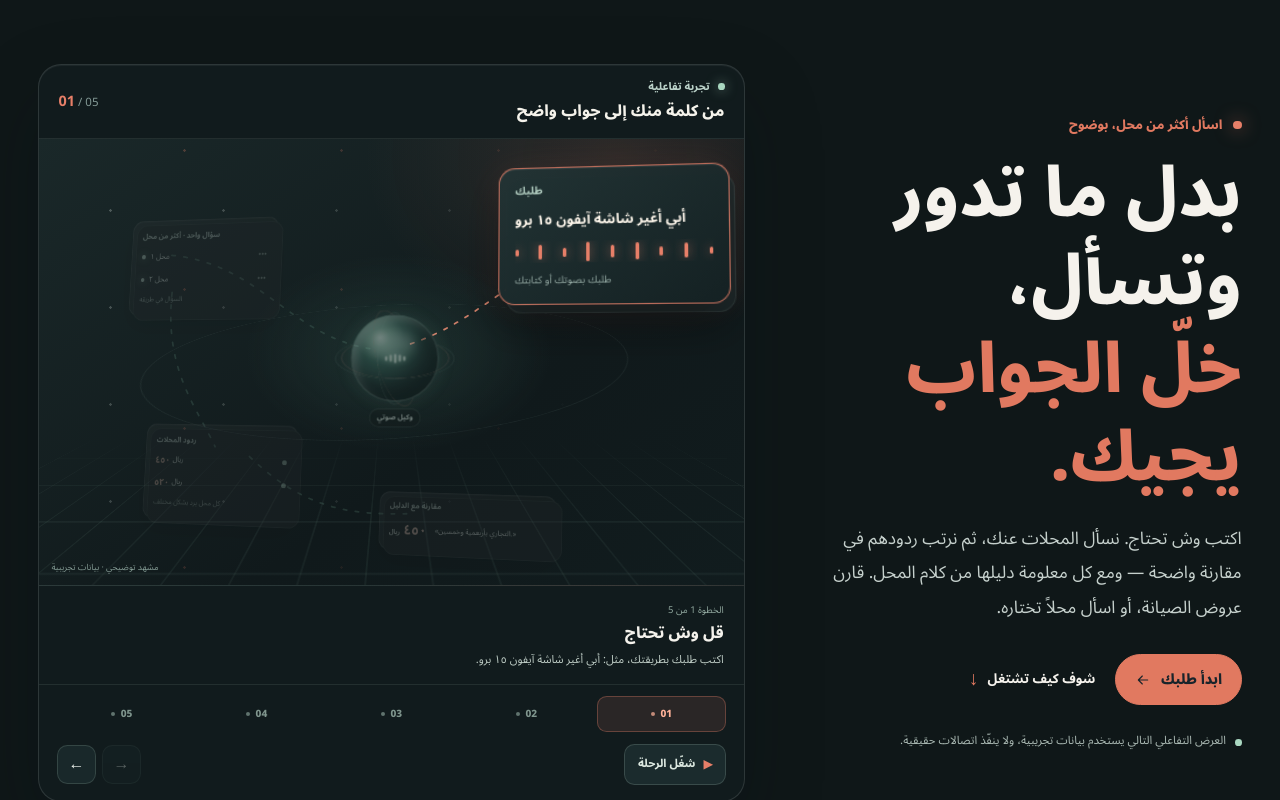
product introduction › moves through the journey steps with the step buttons and arrows
Expected: the heading "قل وش تحتاج" is shown, top-left (625, 616), bottom-right (724, 650)
Expected: the button named "الخطوة السابقة" is disabled, top-left (102, 745), bottom-right (141, 784)
Click the button named "الخطوة 3: نسأل المحلات" at [392, 714], box top-left (327, 696), bottom-right (456, 732)
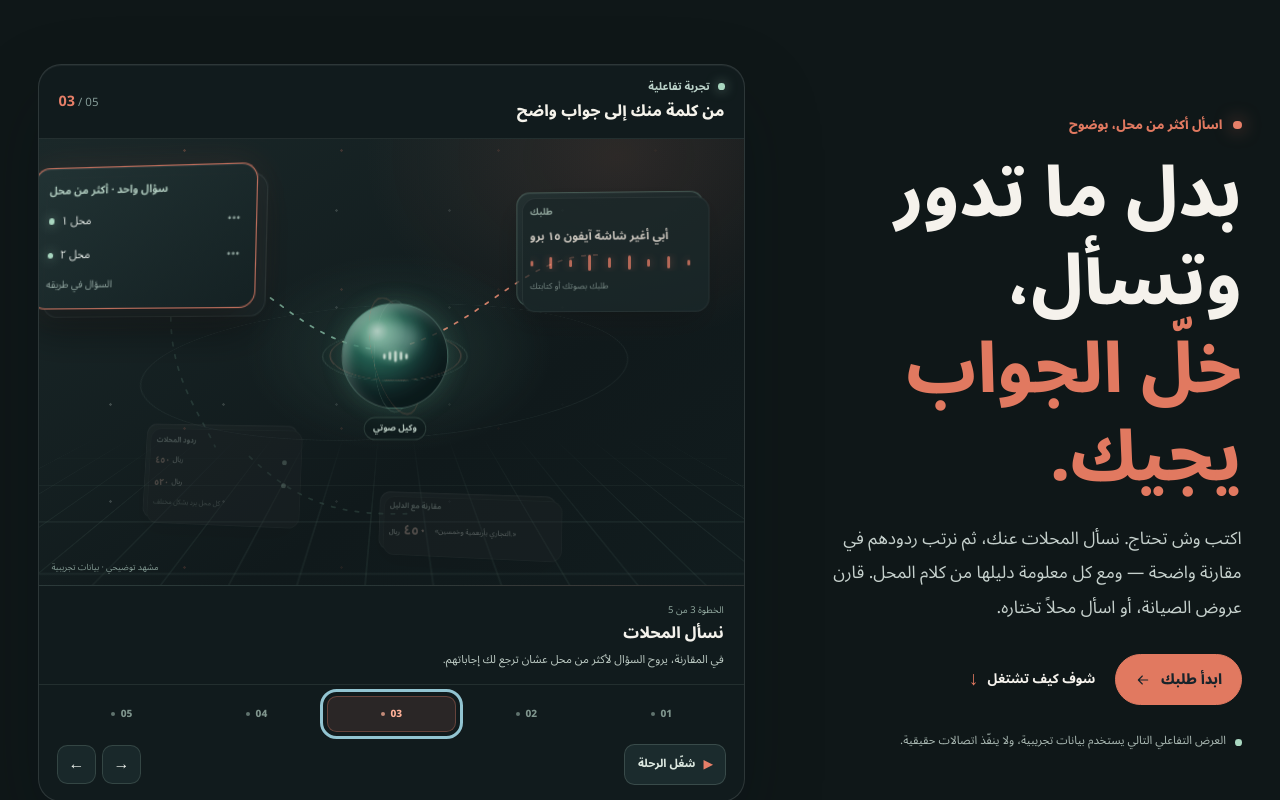
Expected: the heading "نسأل المحلات" is shown, top-left (623, 616), bottom-right (724, 650)
Click the button named "الخطوة التالية" at [77, 764], box top-left (57, 745), bottom-right (96, 784)
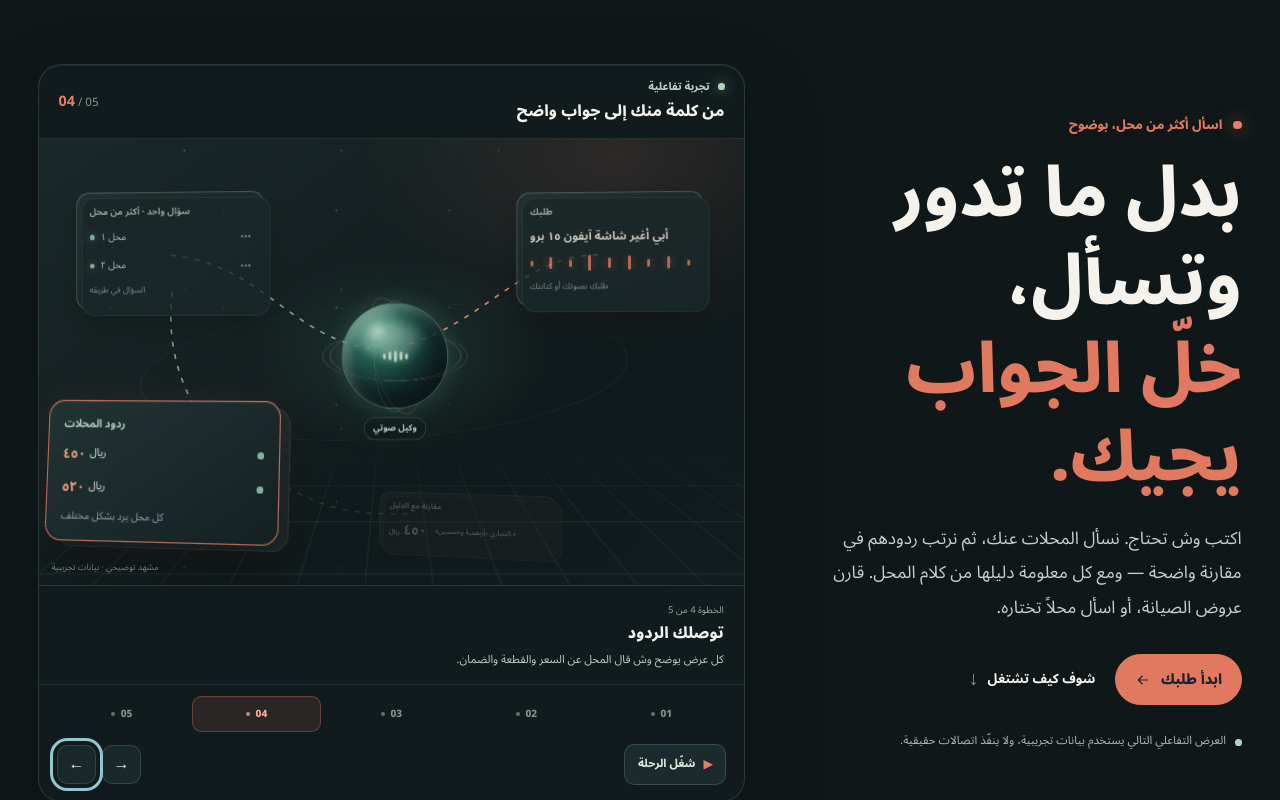
Expected: the heading "توصلك الردود" is shown, top-left (628, 616), bottom-right (724, 650)
Expected: the text "الخطوة 4 من 5" is shown, top-left (668, 600), bottom-right (724, 620)
